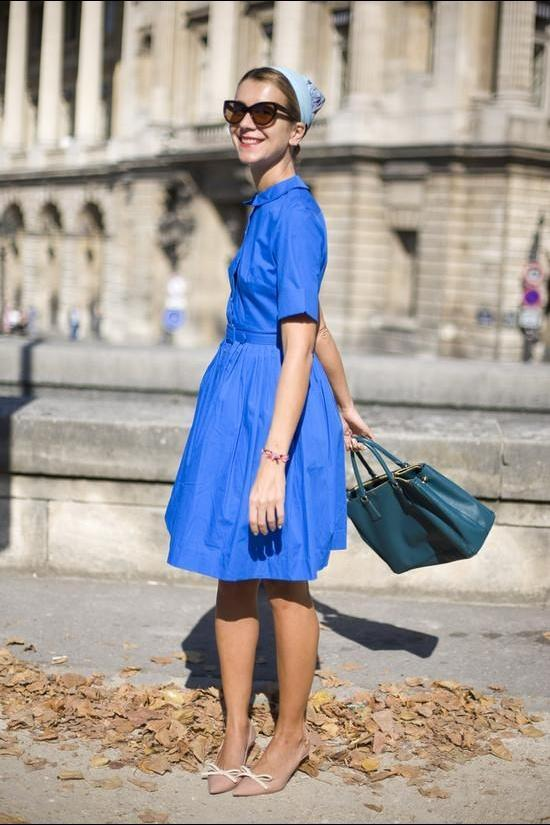dress: (162, 175, 348, 584)
